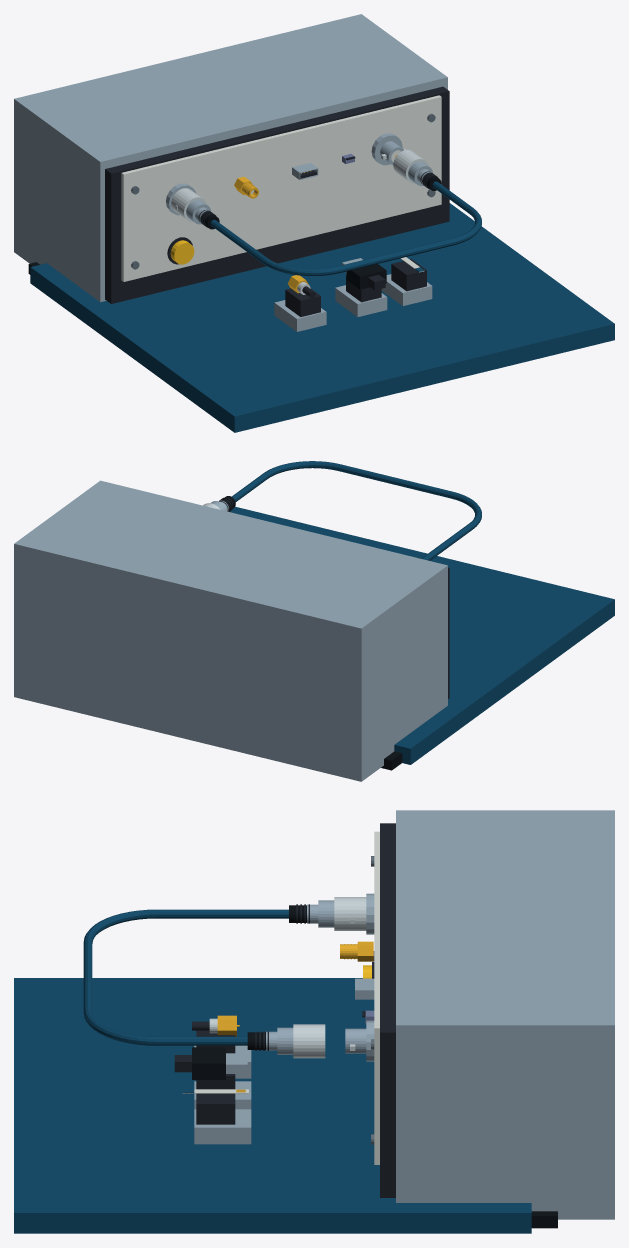
The model's file is connector-bench.glb.
3 views of the same model, one above another, from view 1: azimuth 30°, elevation 25°; view 2: azimuth 150°, elevation 25°; view 3: azimuth 270°, elevation 25° (orthographic). The views are drawn at different scales.
Parts seen in each view (by area): view 1: panel, tray, holders, bnc_lead, source_plug, receive_plug_bnc, display_usb, sink_bnc, pulse_button; view 2: panel, tray, bnc_lead; view 3: panel, tray, bnc_lead, holders, receive_plug_bnc, source_plug, display_usb, sink_bnc, display_sma, sink_sma.
Boxes of the visible parts, x1,y1,x2,y2 form: panel: (14,14,449,303); tray: (30,203,614,432); holders: (274,259,432,331); bnc_lead: (210,181,481,275); source_plug: (171,188,219,229); receive_plug_bnc: (393,150,441,190); display_usb: (342,258,386,290); sink_bnc: (371,133,405,165); pulse_button: (167,237,194,264); panel: (14,480,449,781); tray: (230,506,614,764); bnc_lead: (231,461,481,560); panel: (371,810,614,1219); tray: (14,978,531,1233); bnc_lead: (83,909,288,1045); holders: (194,1030,251,1144); receive_plug_bnc: (247,1024,325,1058); source_plug: (289,897,366,930); display_usb: (174,1047,247,1079); sink_bnc: (345,1020,374,1061); display_sma: (192,1015,239,1036); sink_sma: (340,941,373,961).
Size of the model in its own units: 0.244 by 0.096 by 0.2635.
